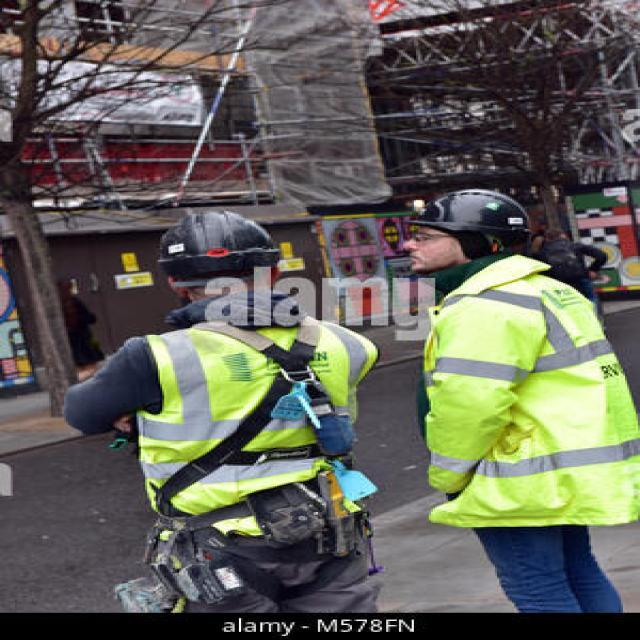reflective_jacket: (414, 258, 639, 532), (130, 318, 375, 494)
safety_helmet: (130, 202, 305, 284), (394, 182, 552, 243)
